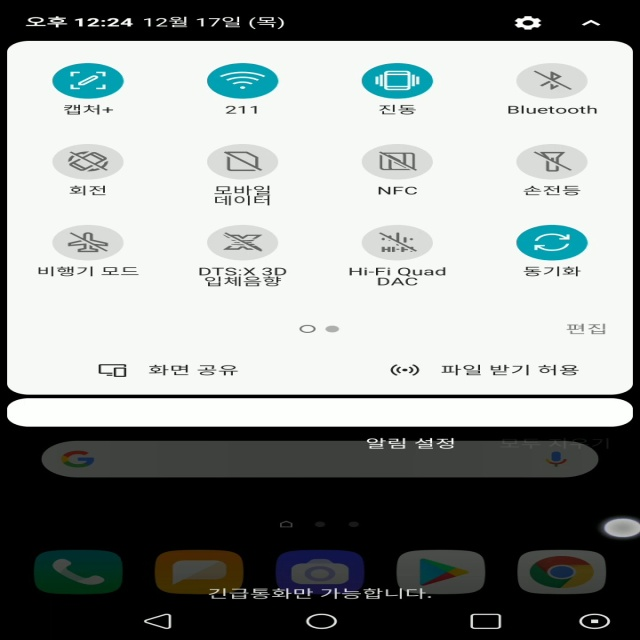Cursor: (596, 517, 640, 539)
